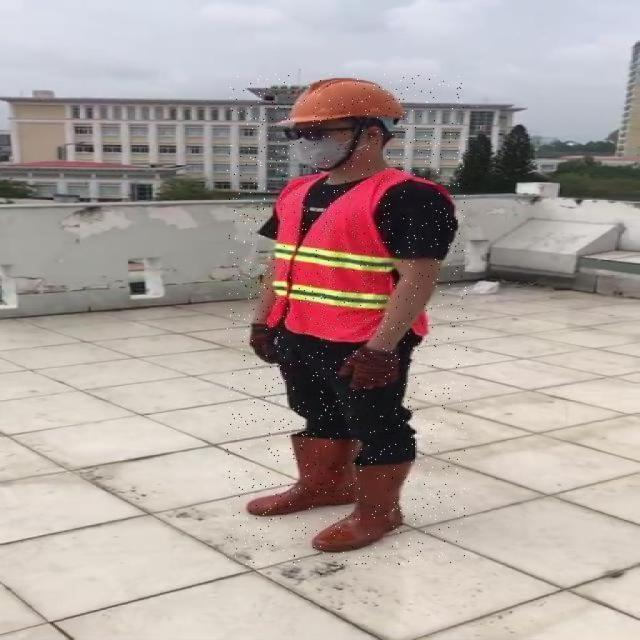Gloves-Detection: (333, 345, 408, 397), (238, 321, 277, 368)
